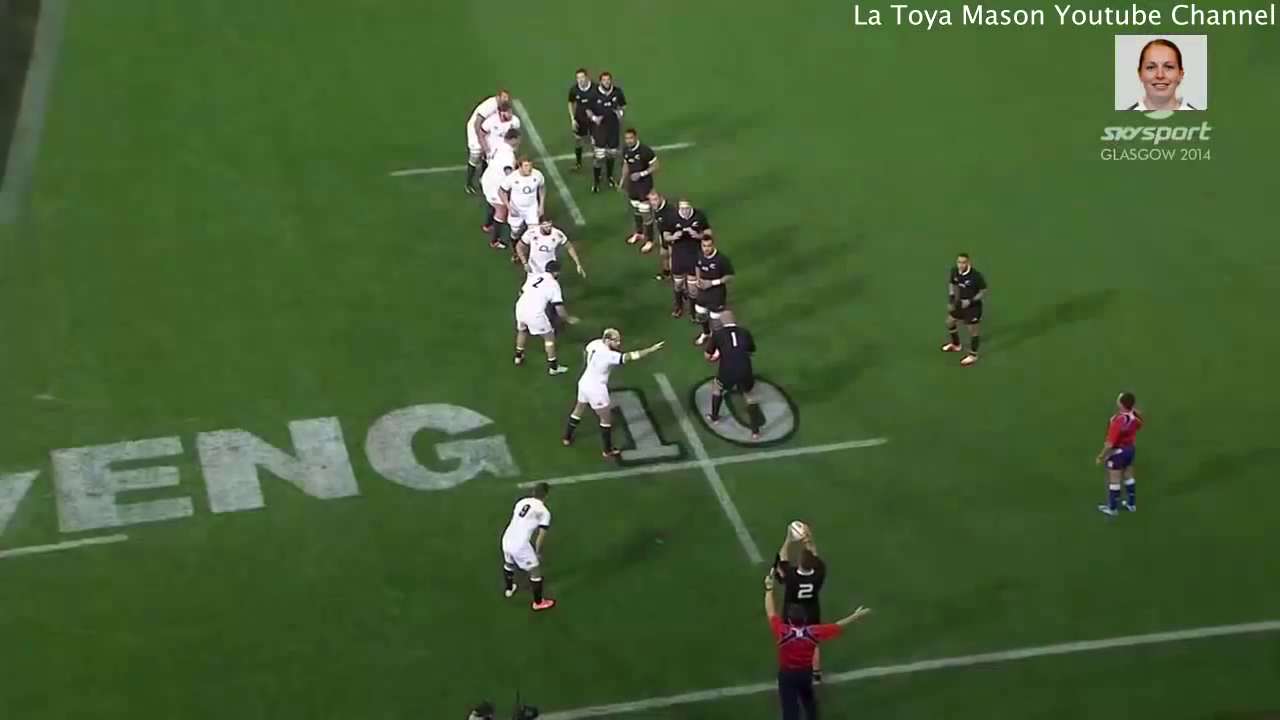10_metre: (505, 369, 901, 577), (379, 93, 728, 230)
player: (751, 558, 886, 720), (552, 321, 670, 468), (487, 461, 566, 621), (921, 238, 993, 380), (503, 244, 577, 380), (702, 308, 769, 447), (605, 121, 670, 263), (1091, 381, 1152, 527), (764, 510, 835, 632), (661, 192, 718, 321), (684, 232, 743, 351), (552, 47, 605, 176), (457, 76, 514, 188), (640, 178, 692, 300), (474, 124, 525, 248), (587, 58, 629, 200), (505, 214, 594, 277), (507, 153, 553, 258), (477, 96, 529, 164)
